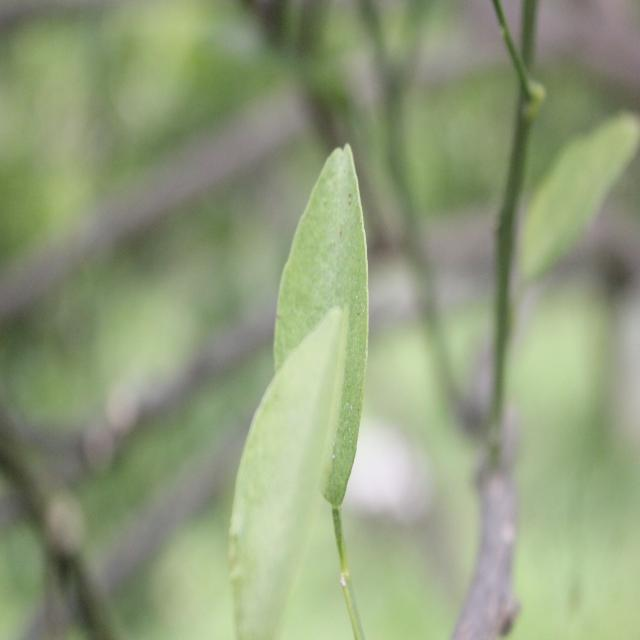blackspot: (293, 181, 368, 315)
